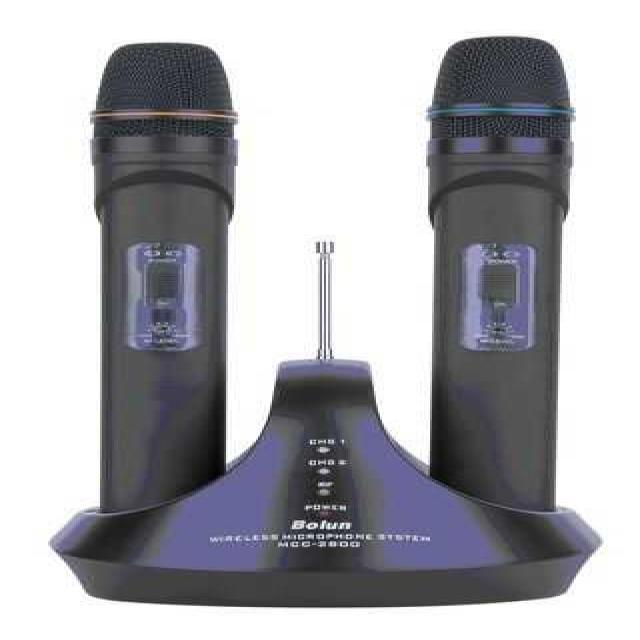microphone: (425, 42, 571, 501), (94, 48, 235, 501)
